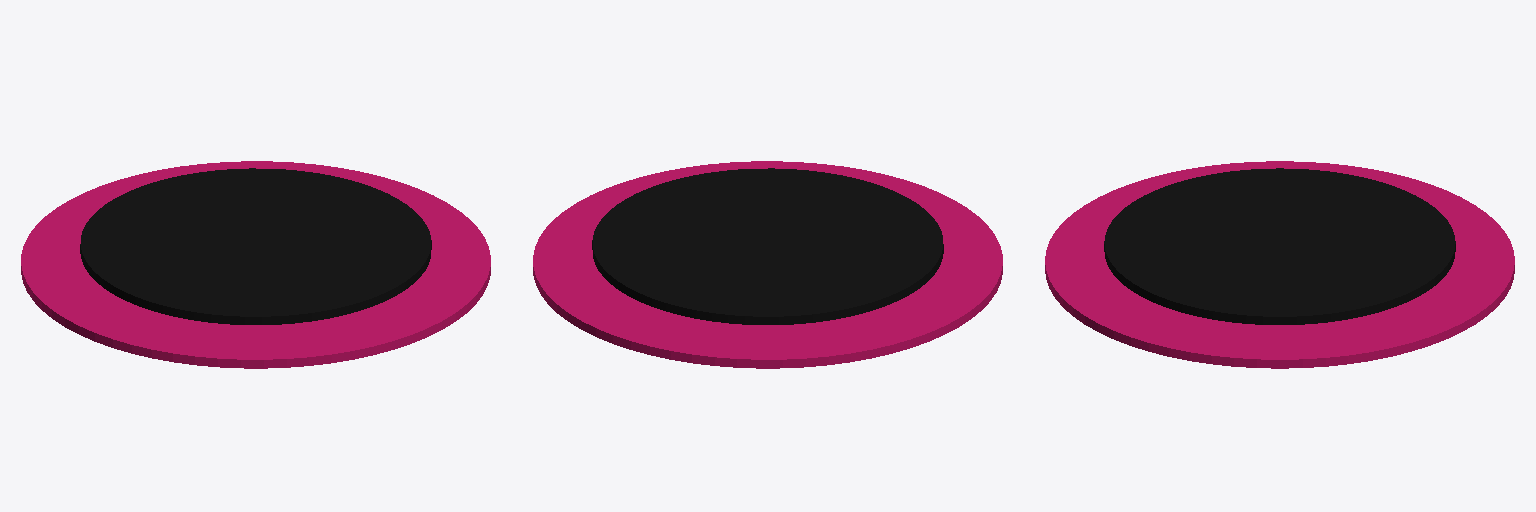
File: Jumppad.obj
3 views of the same model, side by side, from view 1: azimuth 30°, elevation 25°; view 2: azimuth 150°, elevation 25°; view 3: azimuth 270°, elevation 25° (orthographic).
Parts seen in each view (by area): view 1: Cylinder.001, Cylinder; view 2: Cylinder.001, Cylinder; view 3: Cylinder.001, Cylinder.
Part boxes in pixels (x1,y1,x2,y2): Cylinder.001: (80,168,431,324); Cylinder: (21,161,490,368); Cylinder.001: (592,168,943,324); Cylinder: (533,161,1002,368); Cylinder.001: (1104,168,1455,324); Cylinder: (1045,161,1514,368).
Bounding box in the file's own units: 7.72 × 0.484 × 7.72.